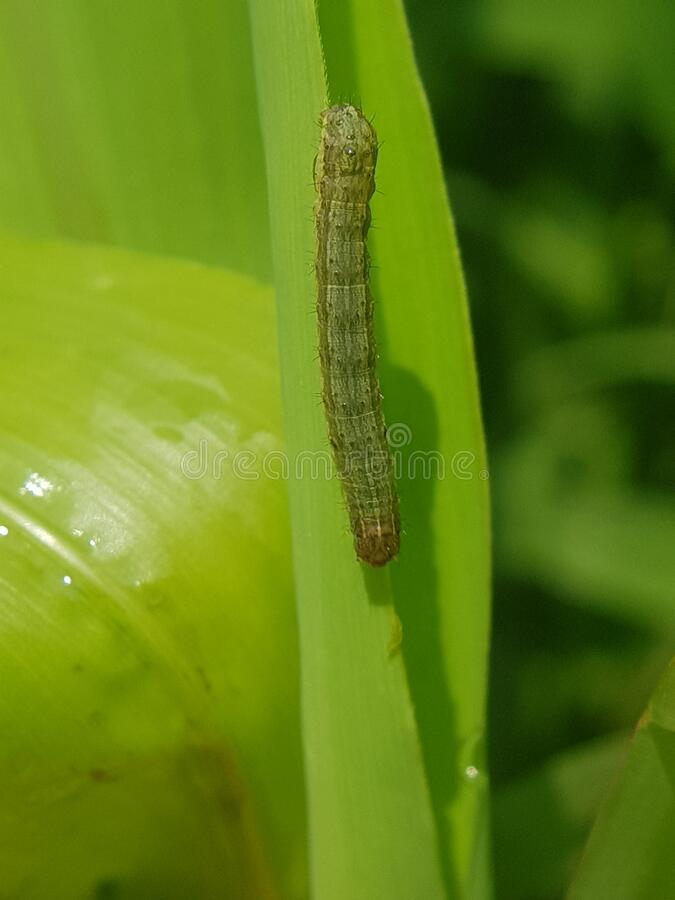Armyworm: (274, 91, 460, 594)
